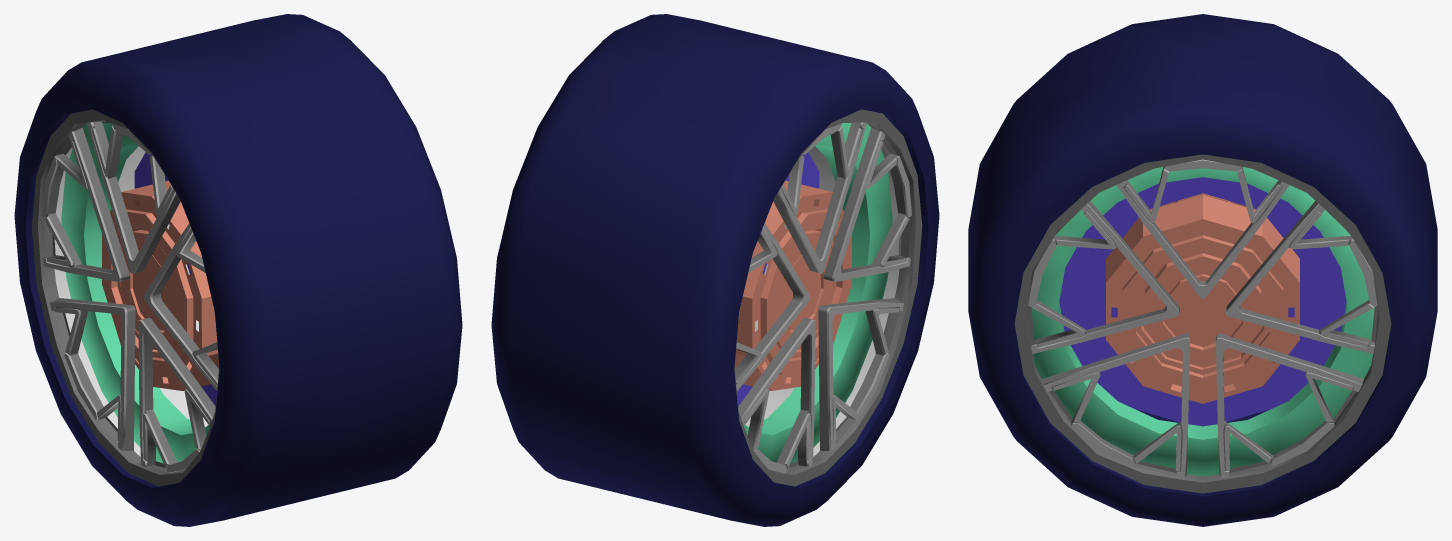
Rendered from Wheel03.fbx.
The picture shows the model from 3 angles, left to right: view 1: azimuth 30°, elevation 25°; view 2: azimuth 150°, elevation 25°; view 3: azimuth 270°, elevation 25°; orthographic projection. The views are drawn at different scales.
Visible parts, largest first — view 1: Wheel_Low.006; view 2: Wheel_Low.006; view 3: Wheel_Low.006.
Part boxes in pixels (box(x1,y1,x2,y2)): Wheel_Low.006: box(14, 14, 462, 526); Wheel_Low.006: box(491, 14, 939, 526); Wheel_Low.006: box(968, 14, 1437, 526).
Size of the model in its own units: 37.99 by 68.51 by 68.51.
